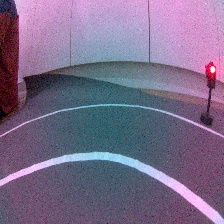red: (200, 59, 218, 132)
